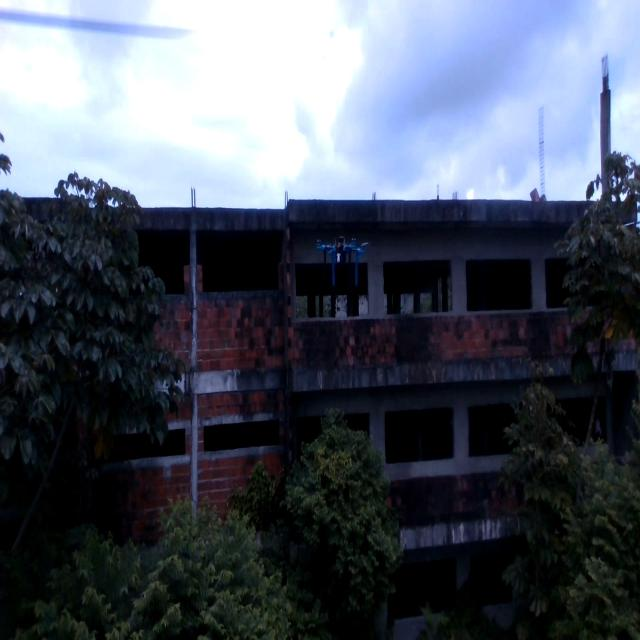-uav-: (309, 222, 376, 301)
